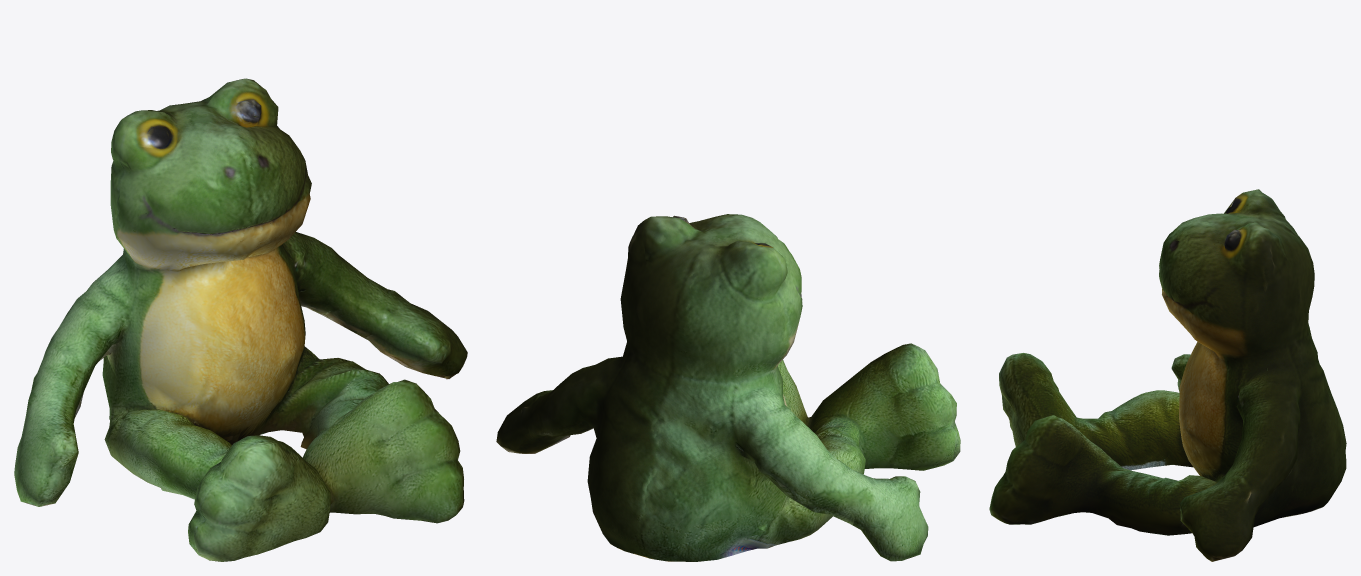
The picture shows the model from 3 angles, left to right: view 1: azimuth 30°, elevation 25°; view 2: azimuth 150°, elevation 25°; view 3: azimuth 270°, elevation 25°; orthographic projection. The views are drawn at different scales.
Parts seen in each view (by area): view 1: Frog; view 2: Frog; view 3: Frog.
Part boxes in pixels (x1,y1,x2,y2): Frog: (14, 78, 467, 561); Frog: (496, 214, 960, 561); Frog: (989, 189, 1346, 561).
Size of the model in its own units: 772 by 844 by 646.
1 material, 1 textured.
